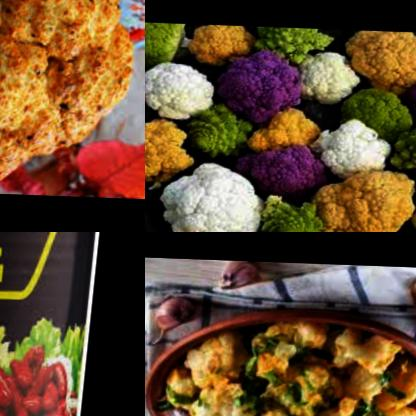cayliflower: (0, 0, 145, 186), (149, 322, 416, 416), (156, 155, 279, 232), (304, 164, 416, 232), (215, 42, 308, 119), (316, 114, 399, 179), (335, 71, 416, 137), (181, 97, 256, 166), (145, 54, 225, 118), (346, 26, 416, 96), (145, 111, 202, 194), (294, 41, 370, 101), (249, 24, 348, 67), (249, 101, 322, 159), (258, 180, 332, 232), (186, 22, 260, 71), (145, 19, 190, 71), (390, 115, 416, 181), (145, 221, 224, 232)
fasol: (0, 314, 91, 416)
